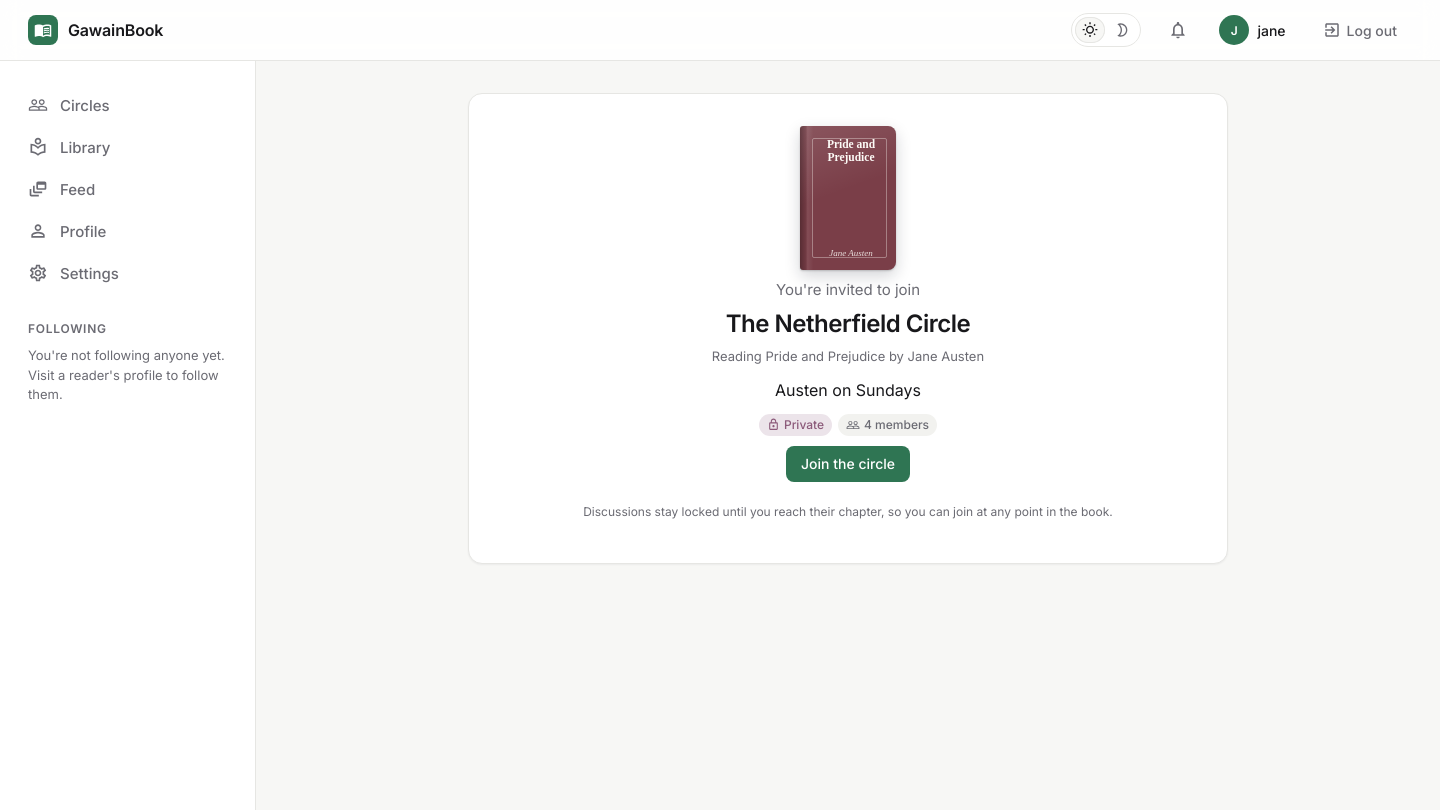
it: a failed join shows why and lets you try again
Step 1. Click the button "Join the circle" → (848, 464), box x1=786 y1=446 x2=910 y2=482
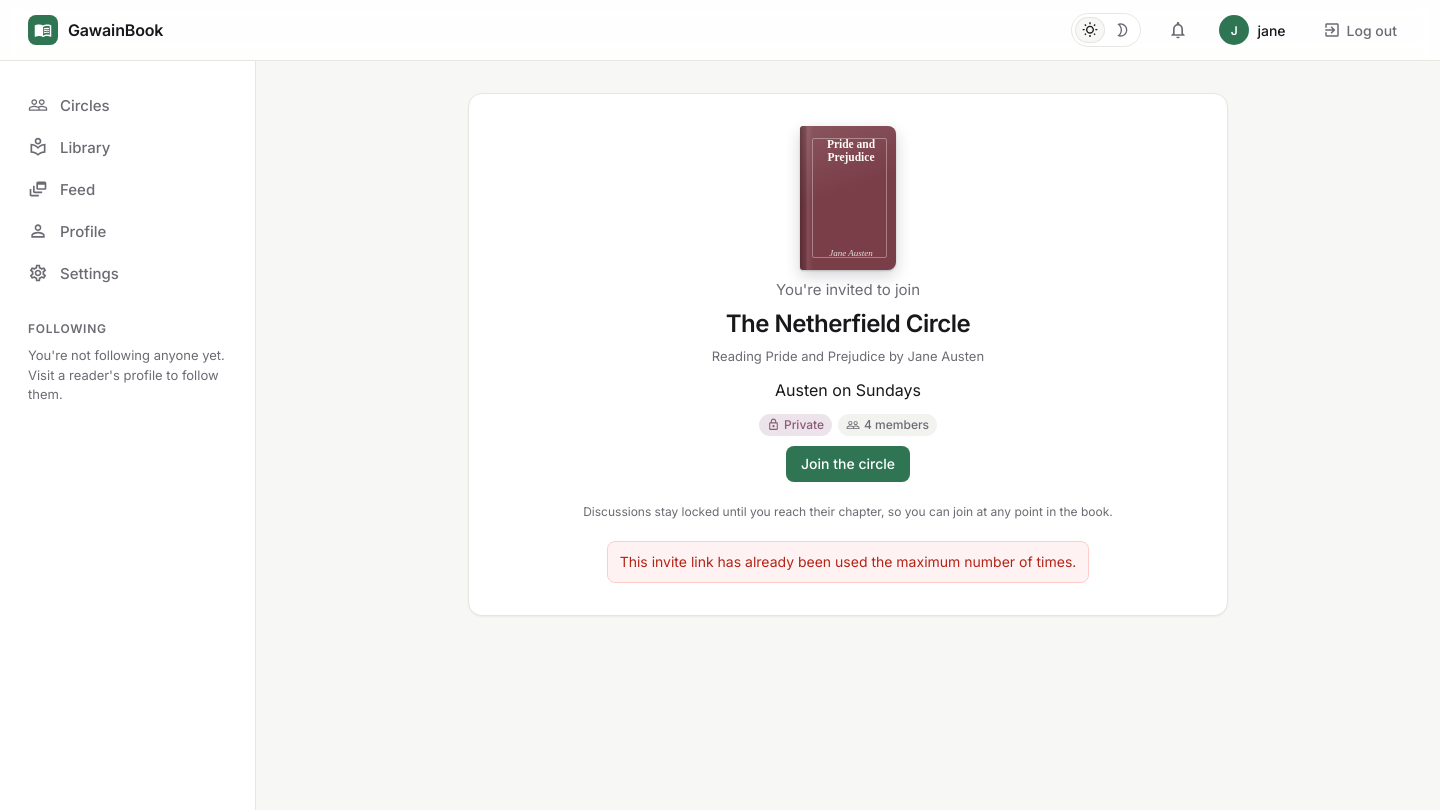
expect the message shows "maximum number of times": met, box x1=620 y1=553 x2=1076 y2=570
